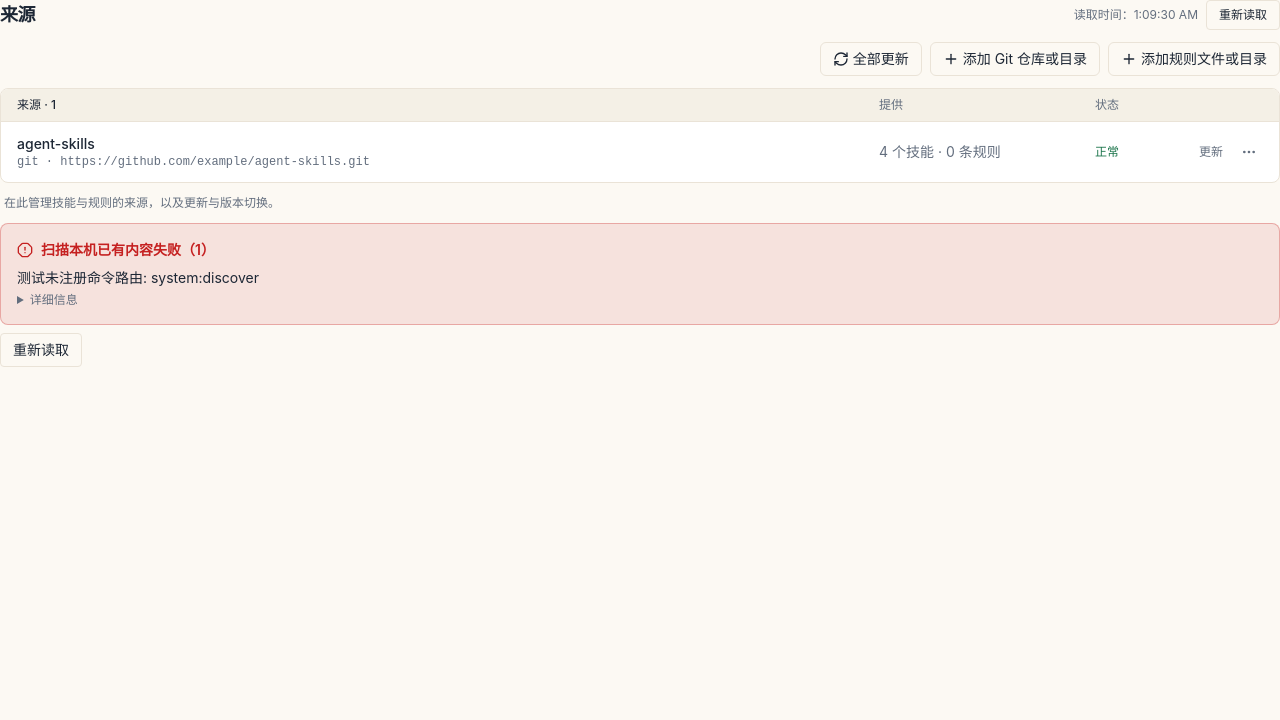
Test: 来源页：添加、编辑、更新、移除 › 新增集合可选本机目录来源：只写 source_path 并清空 url
The image size is (1280, 720).
Click the button with test id "source-add-collection" at (1015, 59), box [930,42,1100,76]
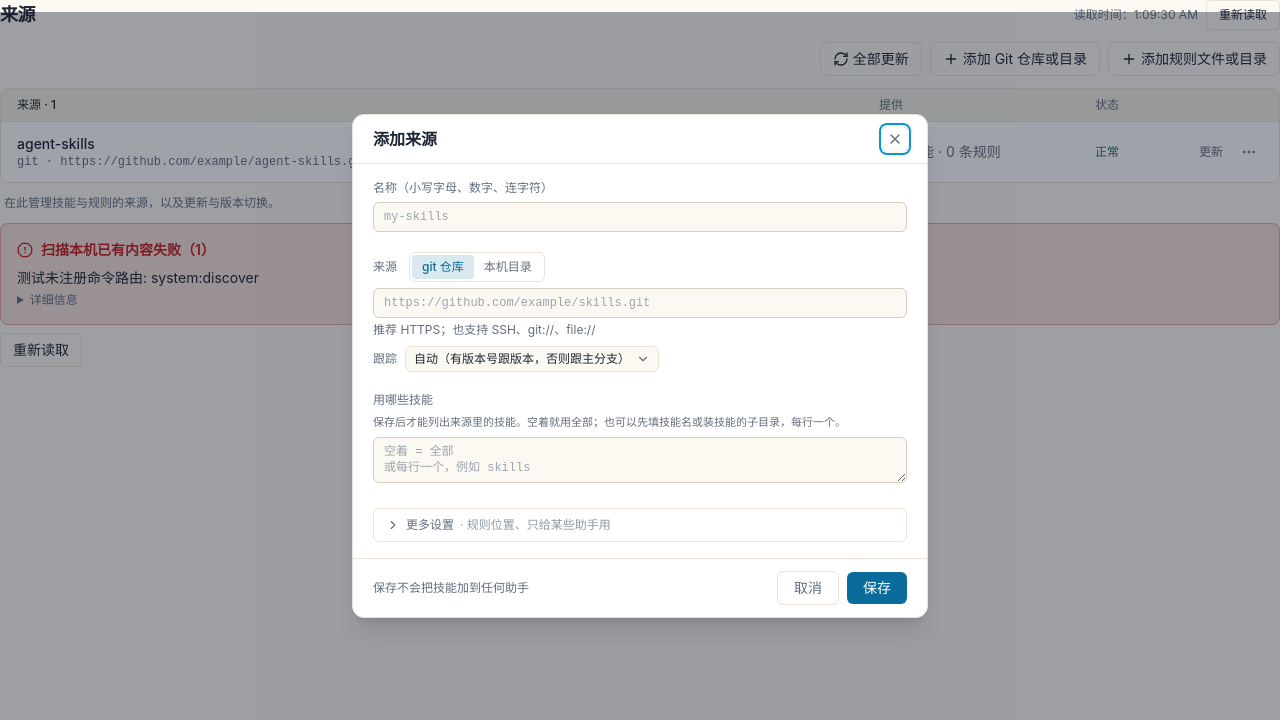
Type "vendor-tool" into the field with test id "collection-name-input" at (640, 217), box [373,202,907,232]
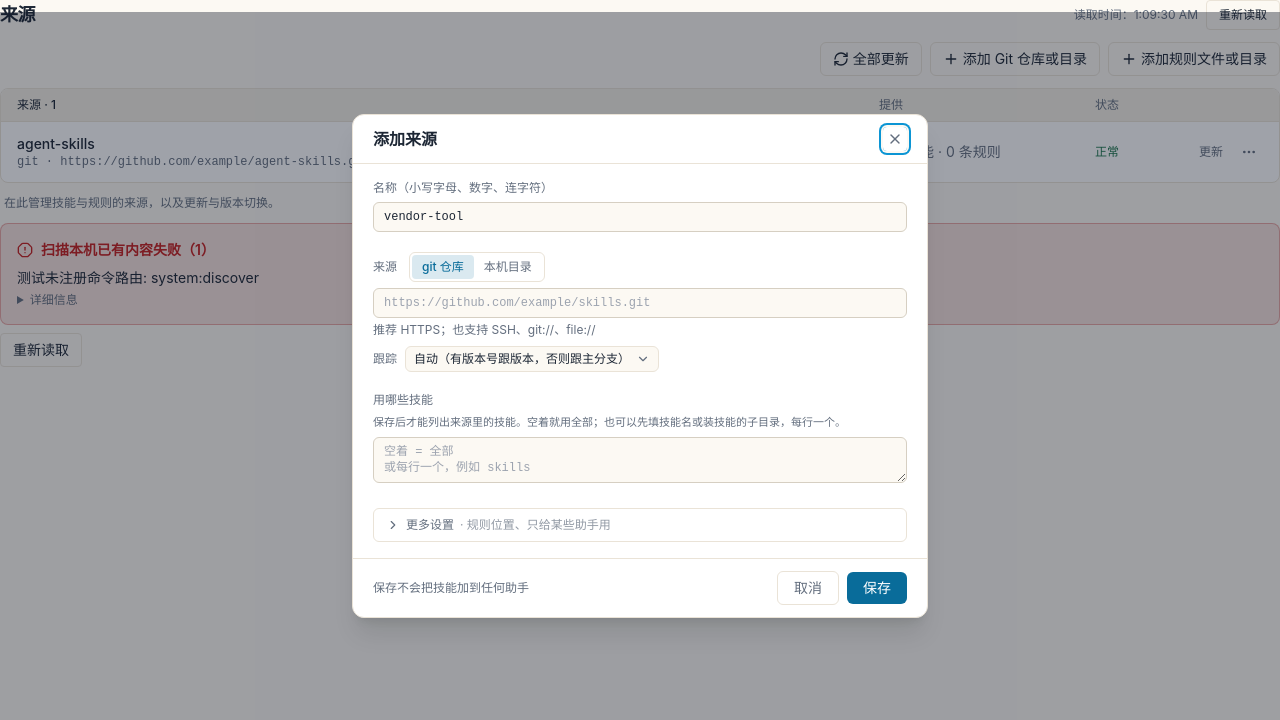
Click the radio button with test id "collection-source-local" at (508, 266), box [484,259,532,274]
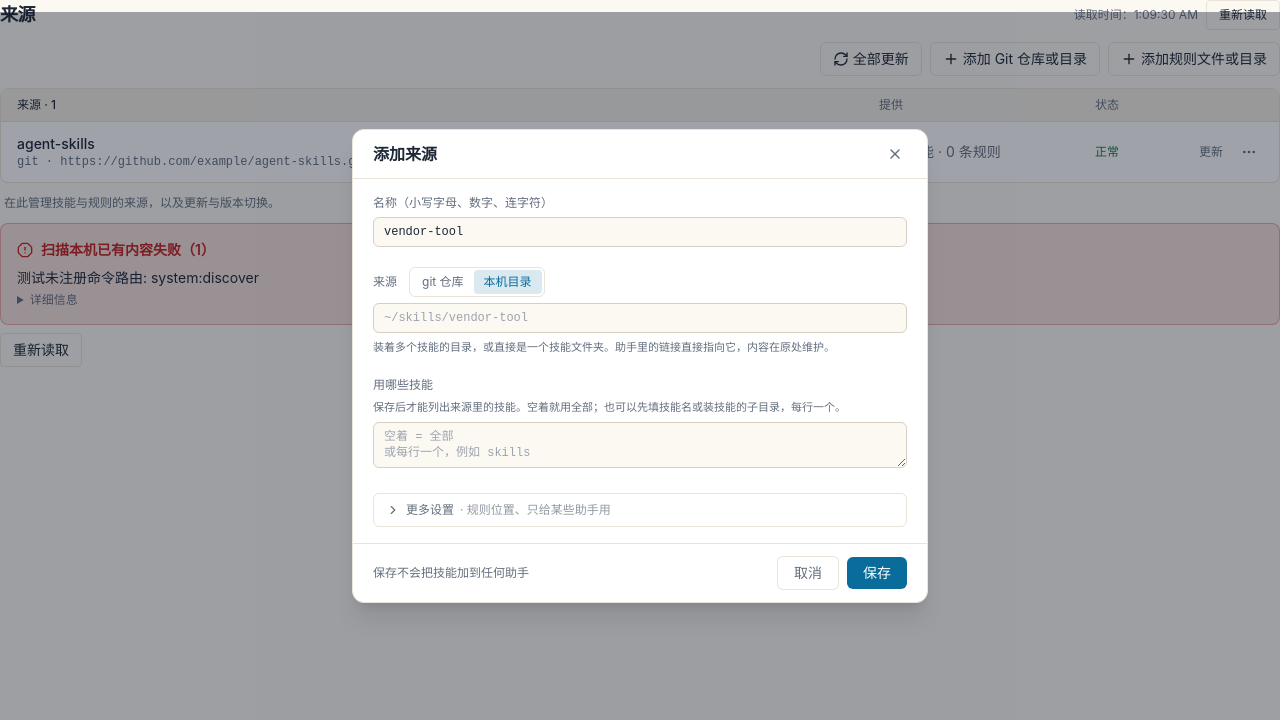
Type "~/.vendor-tool/skills" into the field with test id "collection-source-path-input" at (640, 318), box [373,303,907,333]
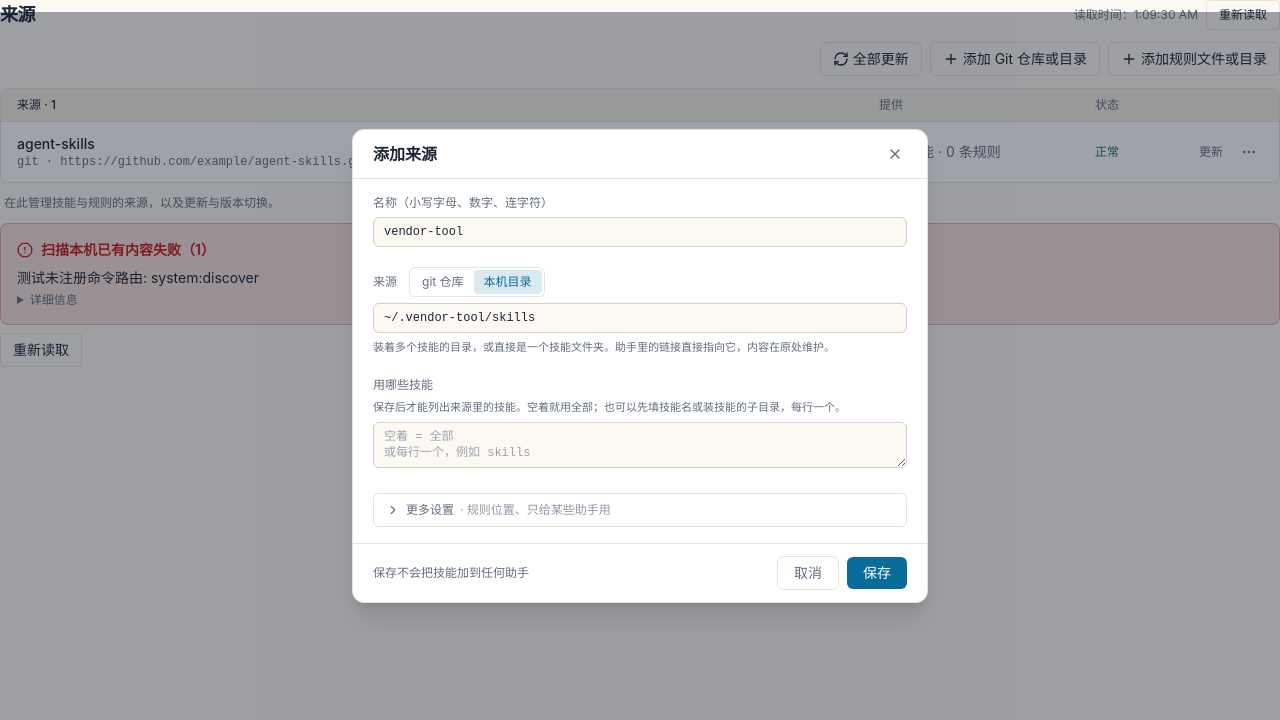
新建时来源还没扫过、列不出候选，直接填写
Type "ones" into the text box with test id "collection-paths-input" at (640, 445), box [373,422,907,468]
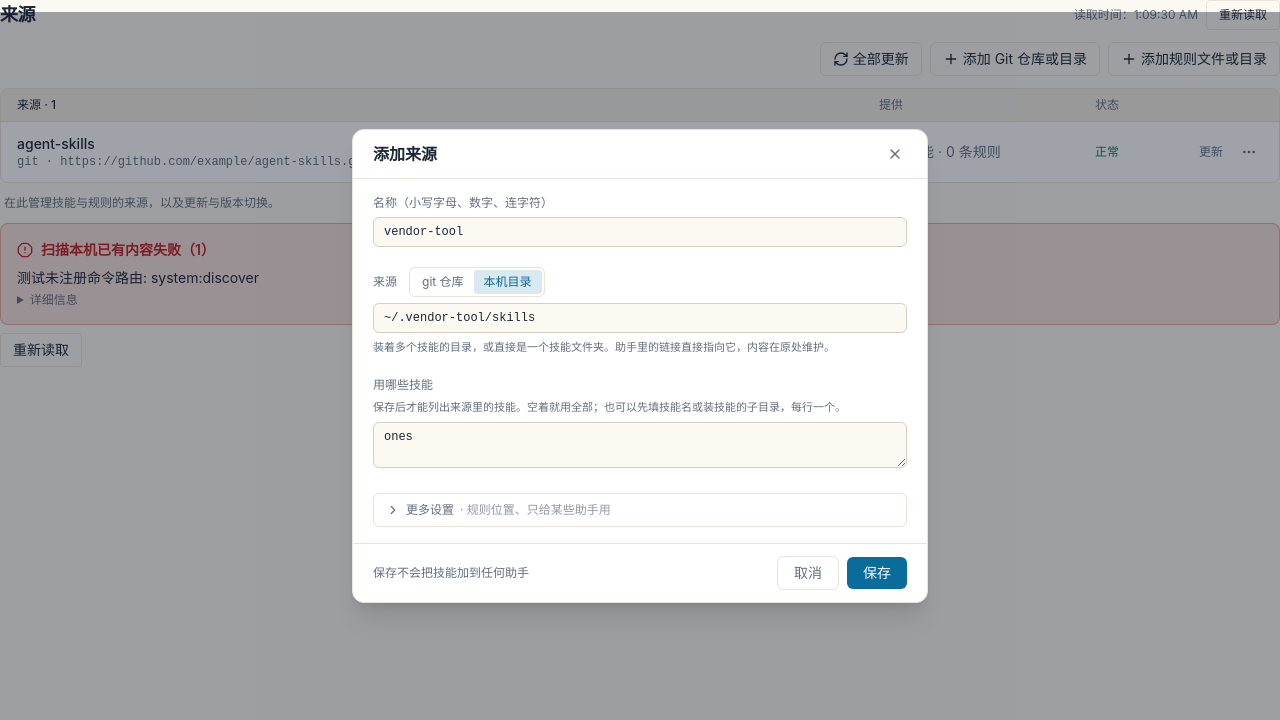
Click the button with test id "collection-form-submit" at (877, 573), box [847,557,907,589]
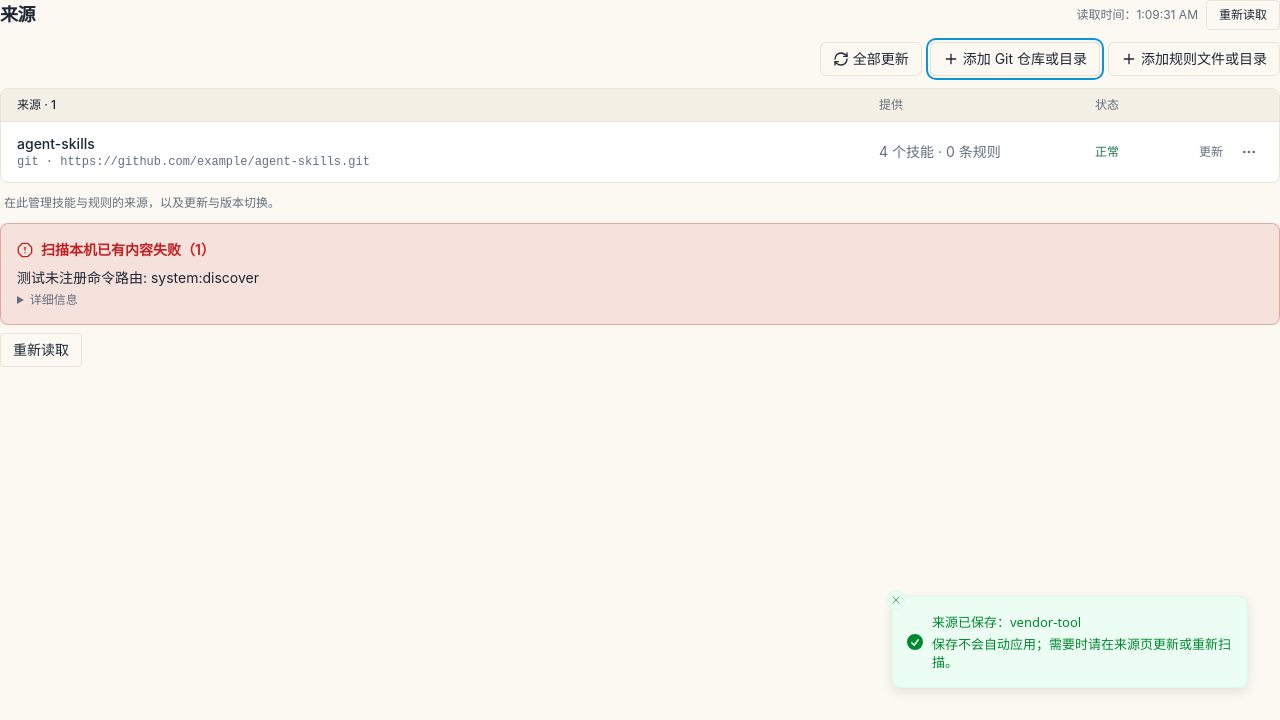
Check: the list item "来源已保存：vendor-tool 保存不会自动应用；需要时请在来源页更新或重新扫描。" is shown, box [892,596,1248,688]
